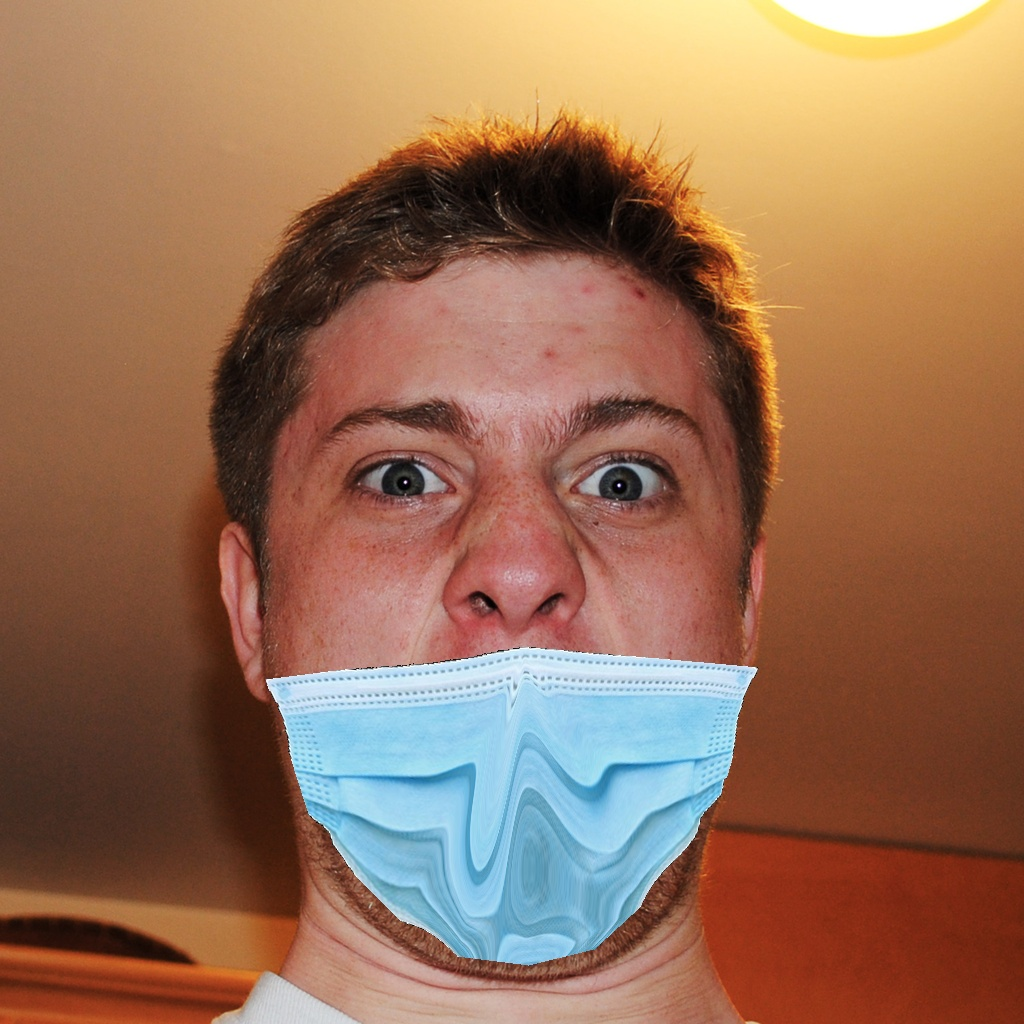mascarilla_mal_puesta: (227, 393, 797, 998)
